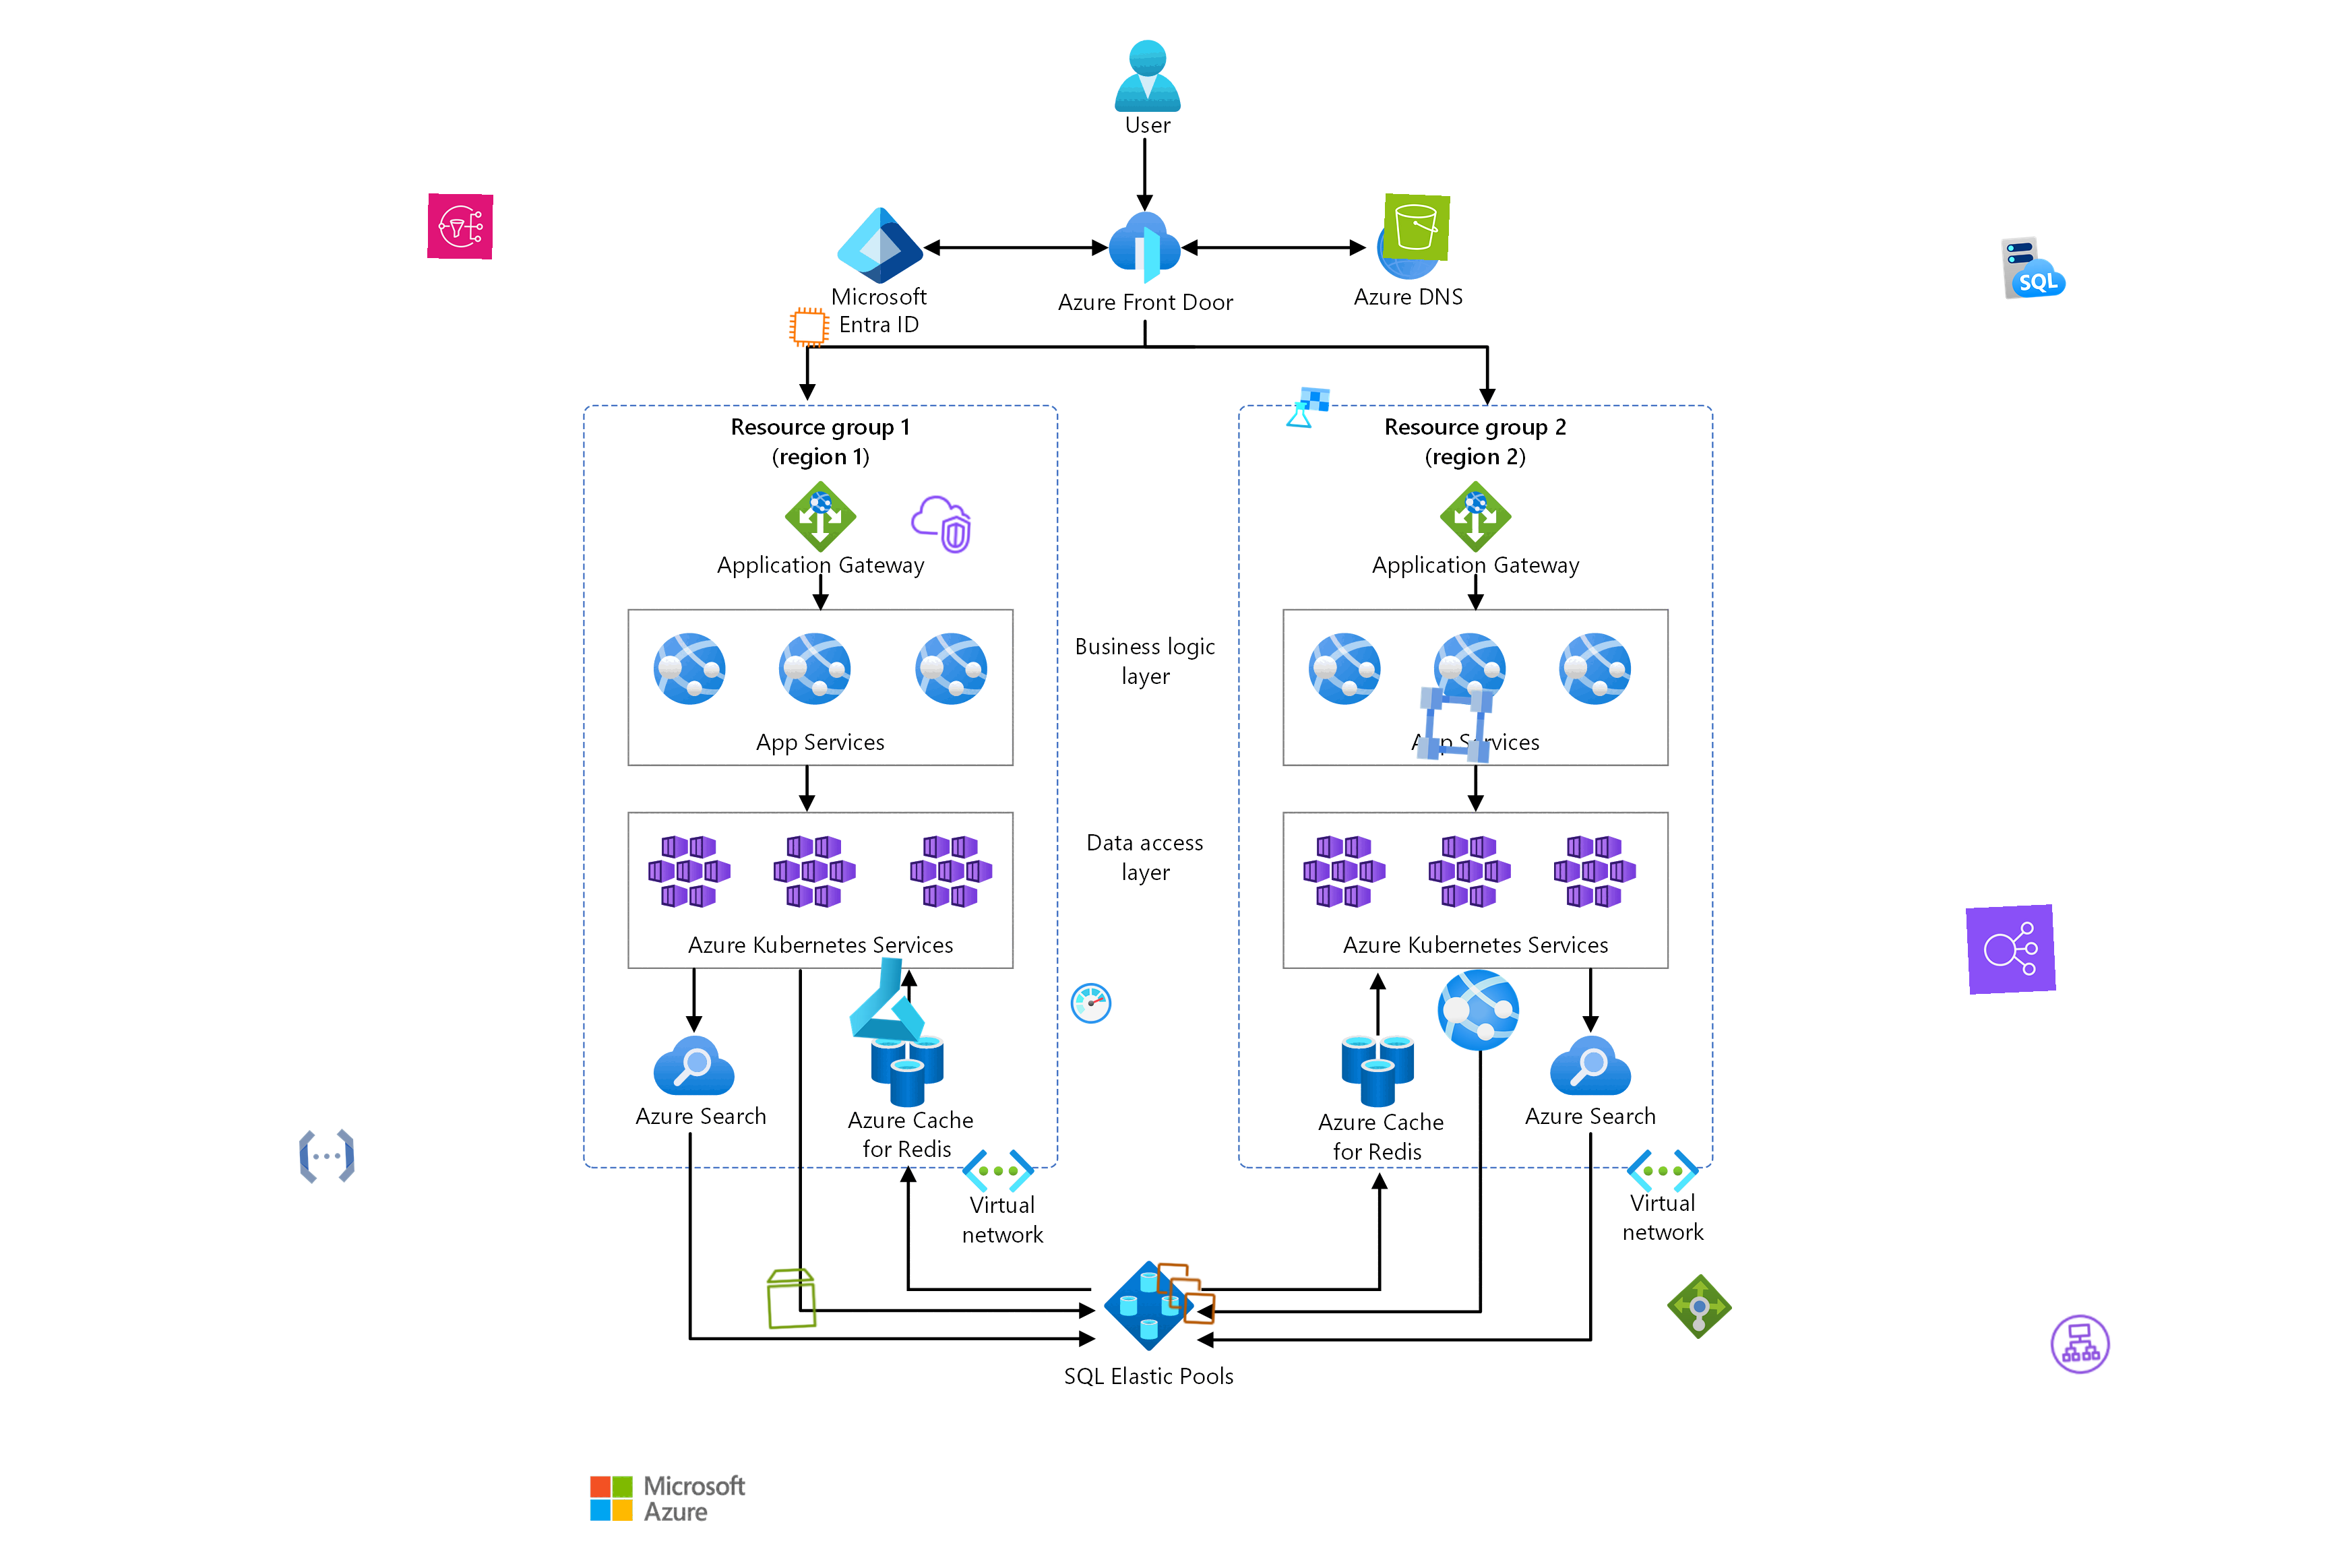aws_amazon_simple_notification_service: (427, 194, 493, 259)
aws_amazon_simple_storage_service: (1383, 194, 1451, 261)
aws_ec2_instance: (786, 305, 833, 350)
aws_ec2_instances: (1151, 1260, 1220, 1328)
aws_elastic_block_store_volume: (758, 1263, 826, 1334)
aws_elastic_load_balancing: (1965, 905, 2056, 994)
aws_elastic_load_balancing_application_load_balancer: (2046, 1309, 2116, 1379)
aws_vpc_virtual_private_cloud_vpc: (906, 490, 975, 558)
azure_app_services: (1431, 964, 1524, 1057)
azure_load_balancers: (1666, 1272, 1734, 1341)
azure_machine_learning: (842, 952, 936, 1045)
azure_machine_learning_studio_workspaces: (1284, 383, 1332, 431)
azure_monitor: (1067, 980, 1115, 1025)
azure_sql_managed_instance: (1998, 231, 2068, 303)
gcp_cloud_functions: (294, 1122, 360, 1190)
gcp_virtual_private_cloud: (1409, 679, 1501, 772)
